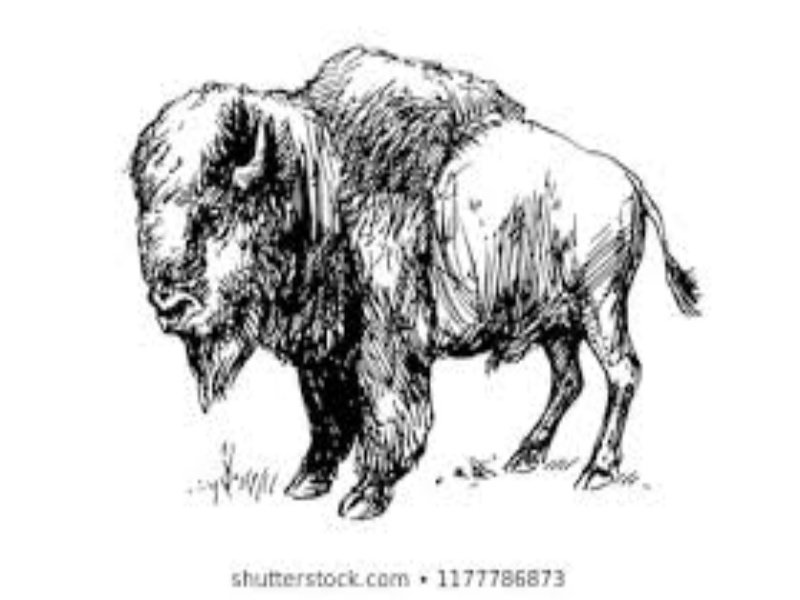buffalo: (123, 46, 714, 527)
